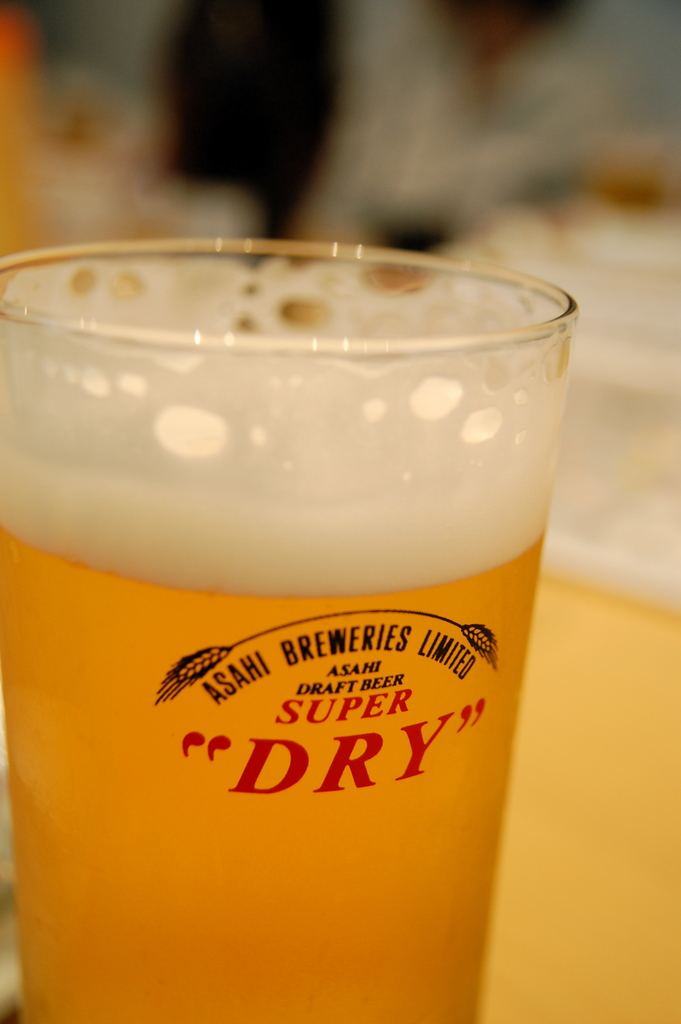Beer: (3, 252, 552, 1022)
